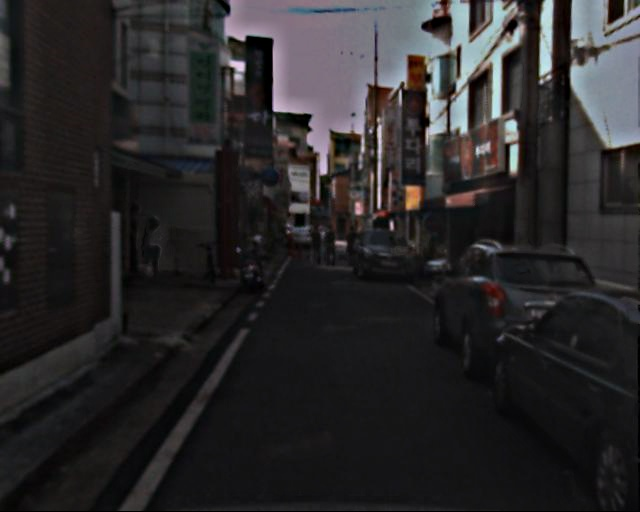person: (121, 205, 151, 279), (138, 216, 164, 279), (307, 222, 325, 267), (343, 223, 361, 266), (324, 224, 341, 265)
